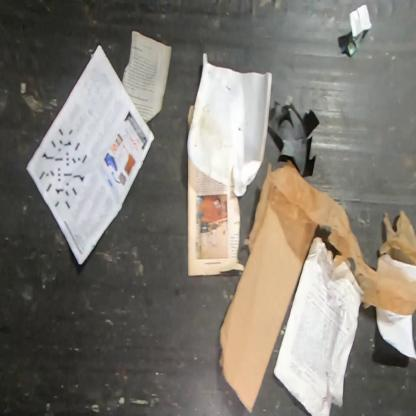cardboard: (218, 198, 319, 414)
rigid_plastic: (268, 98, 321, 178)
soft_plastic: (242, 158, 416, 320)
